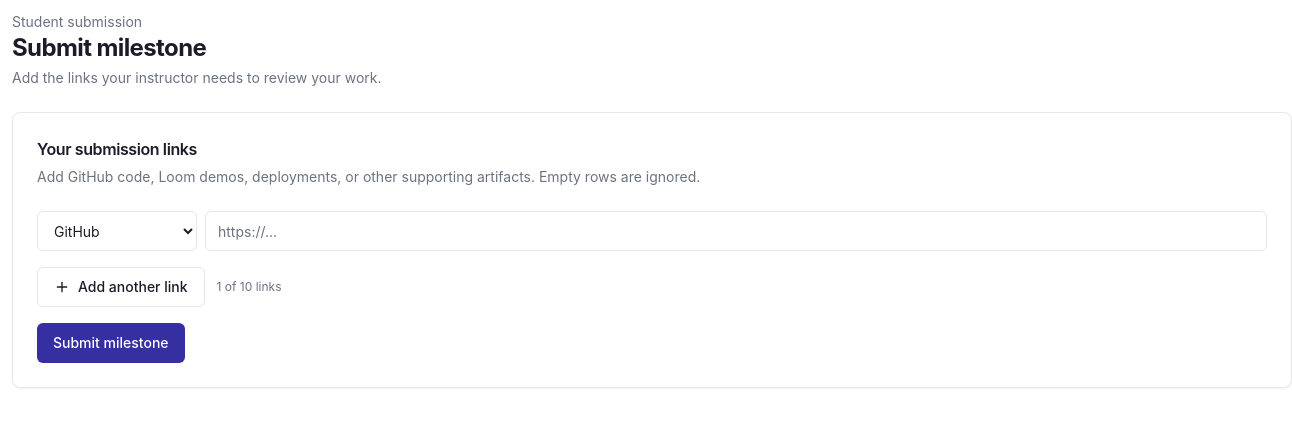
Test: SubmitMilestonePage › rejects an invalid loom link
Select "Loom" in the dropdown named "Link 1 type" at point(117, 231), box [37,211,197,251]
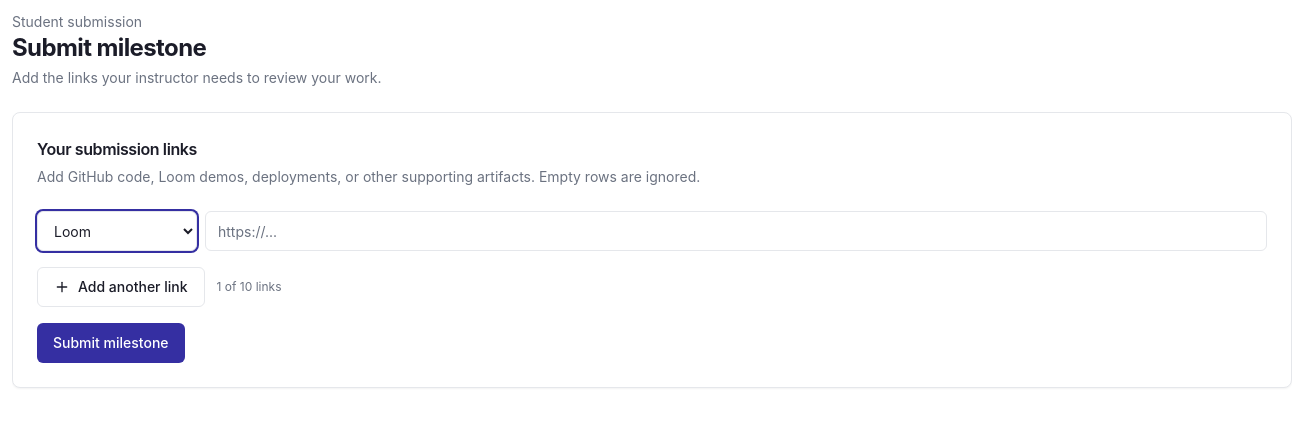
Type "https://example.com/video" into the field named "Link 1 URL".
click(736, 231); type("https://example.com/video")  # box [205,211,1267,251]
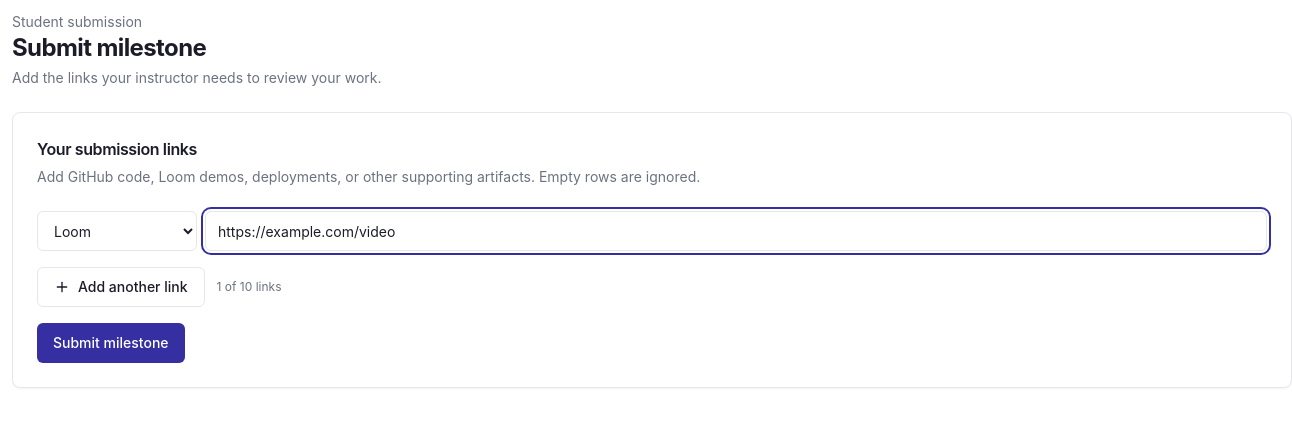
Click the button "Submit milestone".
click(111, 343)  # box [37,323,185,363]
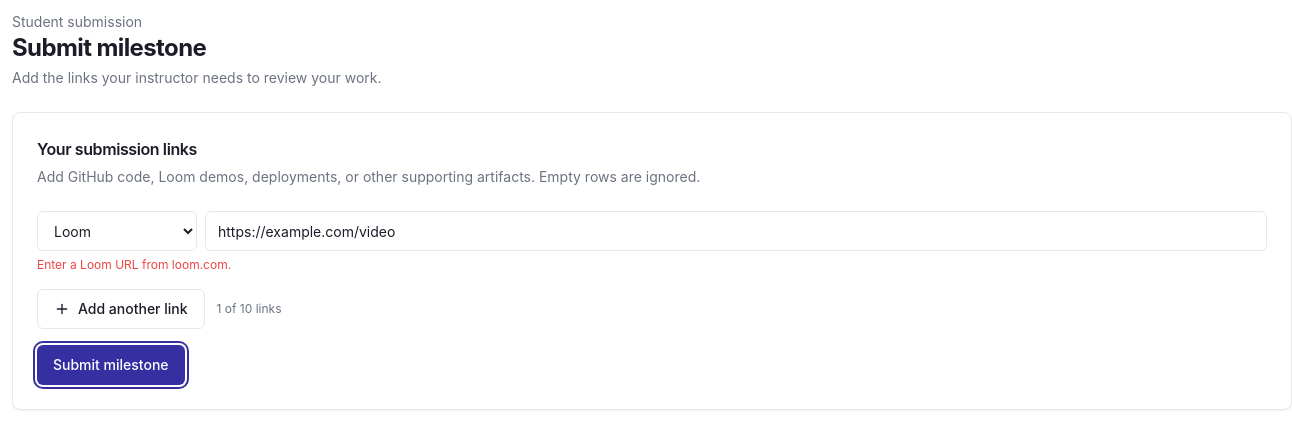
Expected: the text "Enter a Loom URL from loom.com." is shown, [37,257,231,272]
